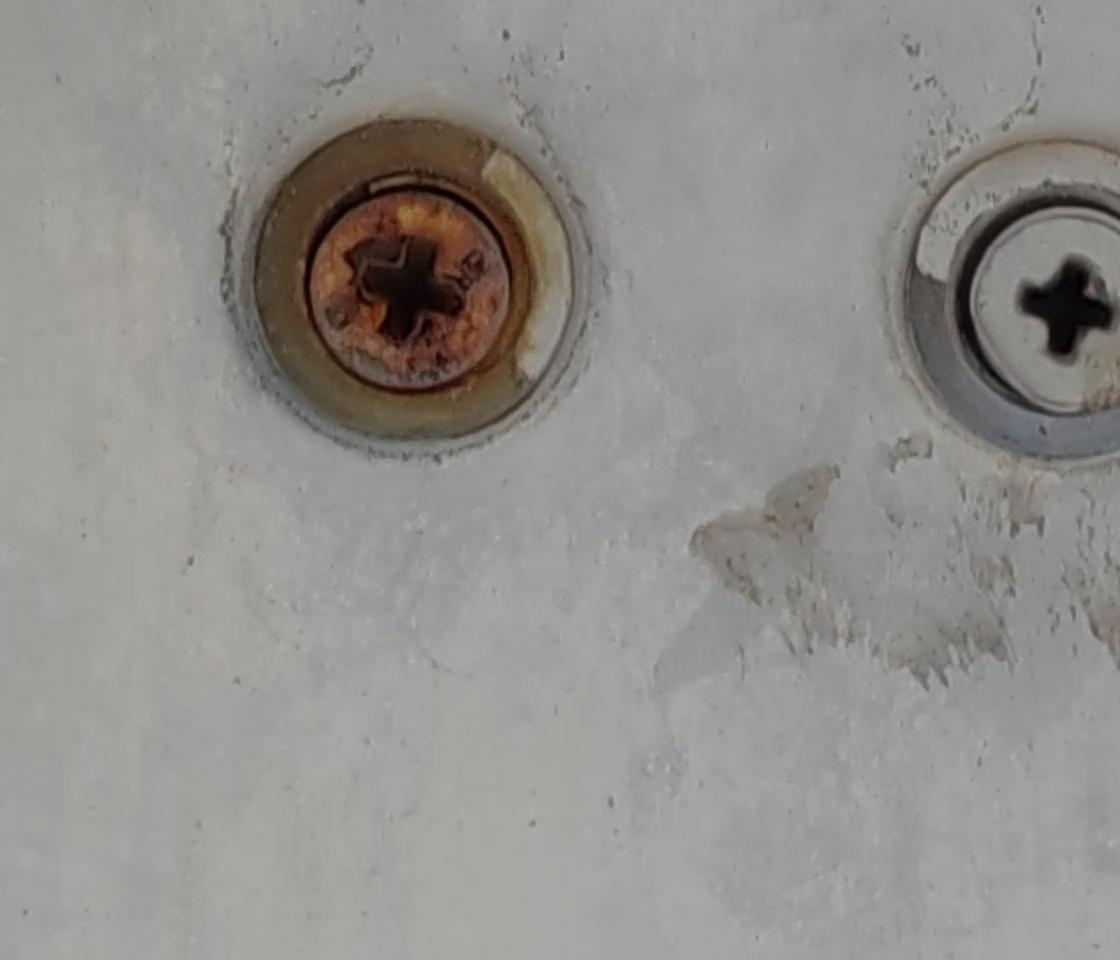rivet_damage: (249, 114, 584, 458)
